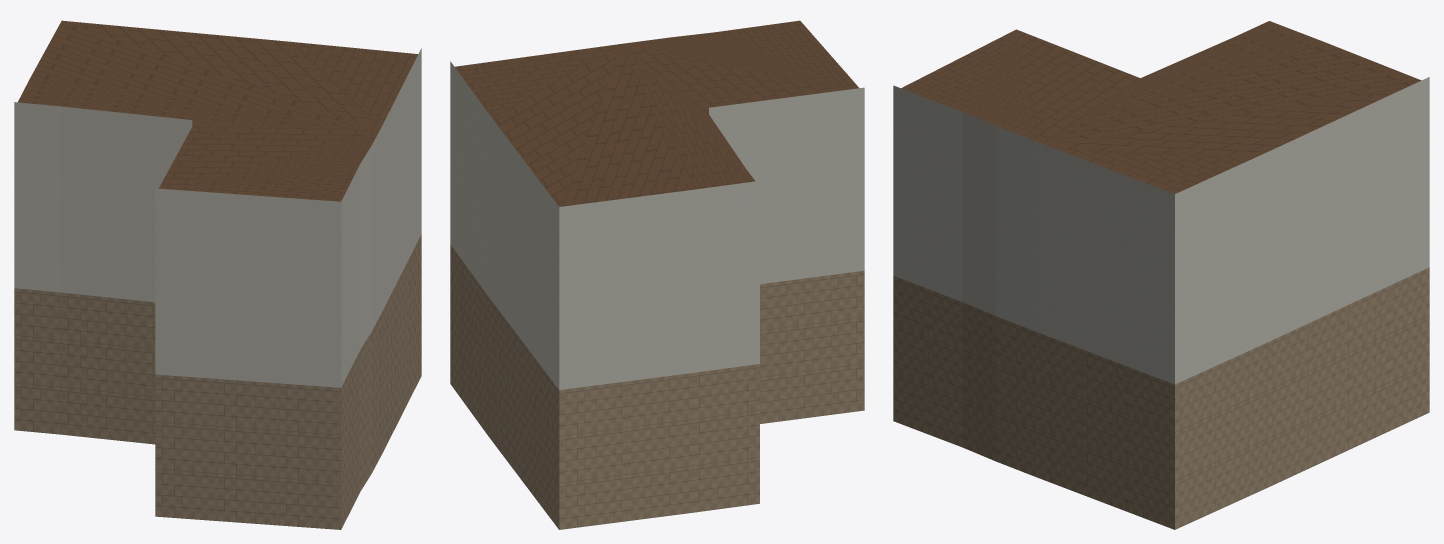
File: bld_c31_-38_464.gltf
The picture shows the model from 3 angles, left to right: view 1: azimuth 30°, elevation 25°; view 2: azimuth 150°, elevation 25°; view 3: azimuth 270°, elevation 25°; orthographic projection. The views are drawn at different scales.
Parts seen in each view (by area): view 1: bld_c31_-38_464; view 2: bld_c31_-38_464; view 3: bld_c31_-38_464.
Boxes of the visible parts, x1,y1,x2,y2 form: bld_c31_-38_464: (14,20,421,529); bld_c31_-38_464: (450,20,864,529); bld_c31_-38_464: (893,21,1429,529).
Bounding box in the file's own units: 13.56 × 11.78 × 17.06.
Materials: 4 (4 with a texture image).
